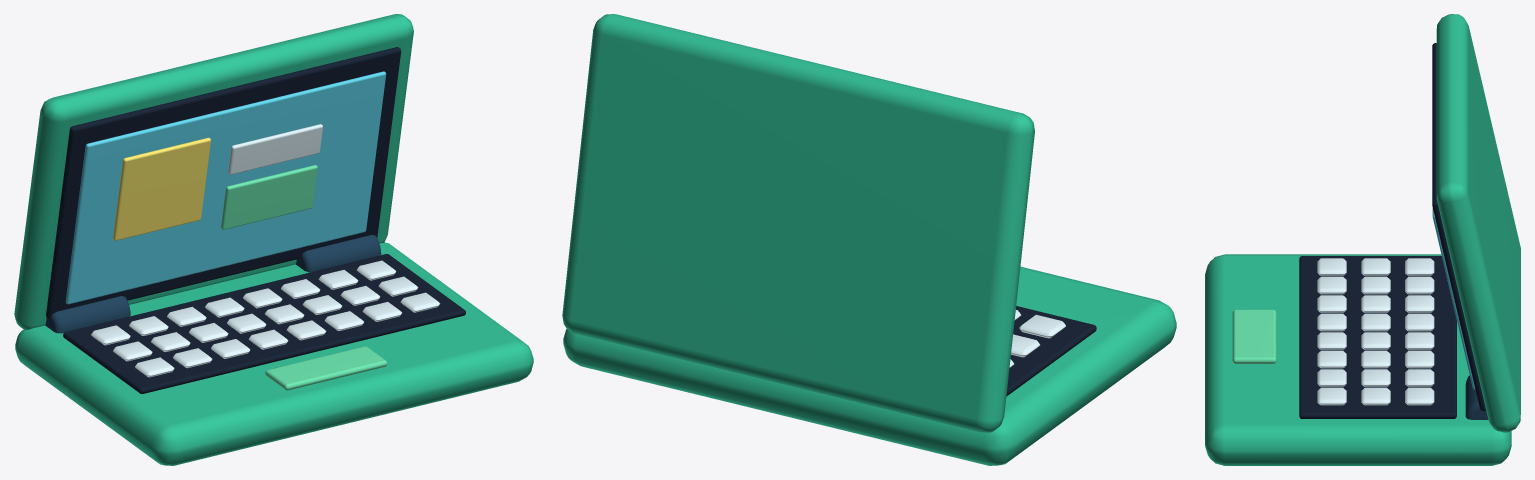
File: laptop.glb
The picture shows the model from 3 angles, left to right: view 1: azimuth 30°, elevation 25°; view 2: azimuth 150°, elevation 25°; view 3: azimuth 270°, elevation 25°; orthographic projection. The views are drawn at different scales.
Visible parts, largest first — view 1: laptop; view 2: laptop; view 3: laptop.
Boxes of the visible parts, x1,y1,x2,y2 form: laptop: [14, 14, 533, 465]; laptop: [562, 14, 1176, 465]; laptop: [1205, 14, 1520, 465].
Size of the model in its own units: 1 by 0.7088 by 0.7212.
Materials: 1 (1 with a texture image).
